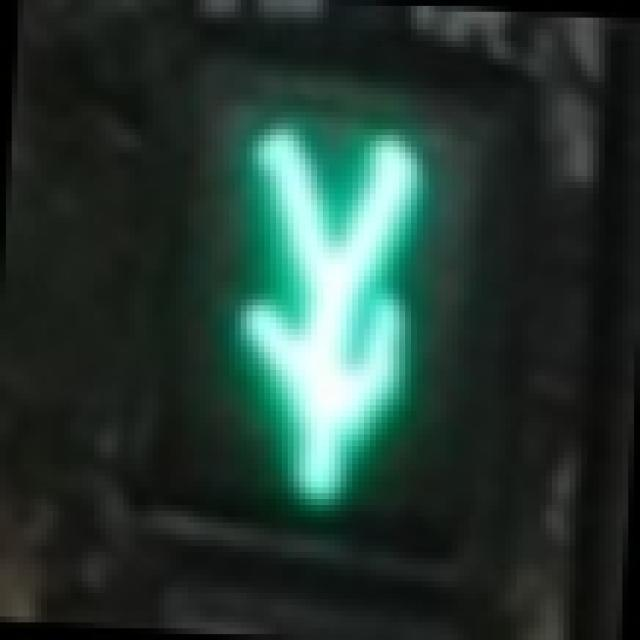geen-crossing: (146, 88, 482, 534)
